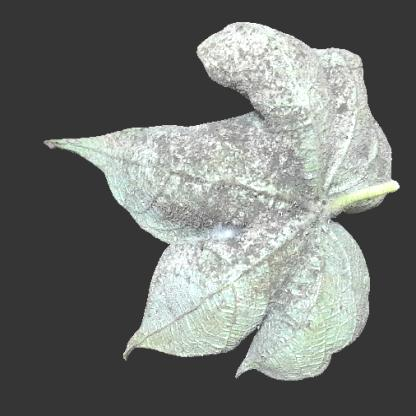curl_stage2: (315, 298, 356, 354), (169, 311, 220, 351)
sooty: (169, 122, 318, 220), (190, 218, 273, 288), (255, 38, 309, 107)
